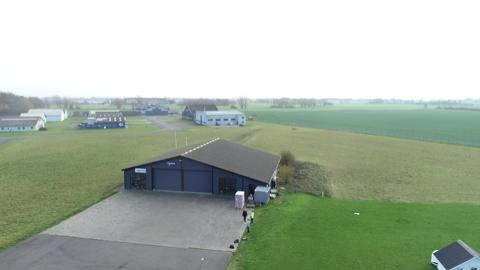RockwoolPallet: (235, 190, 246, 209)
